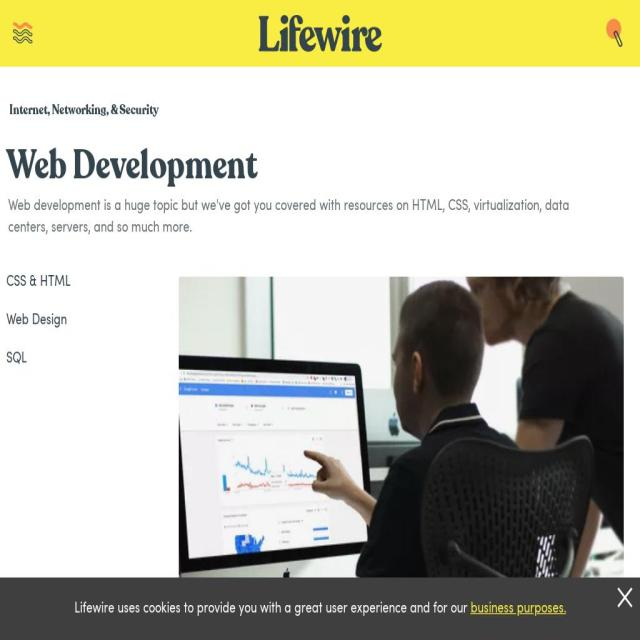button: (178, 276, 623, 640), (330, 466, 618, 500), (330, 140, 618, 173), (253, 14, 387, 64), (6, 302, 150, 341), (6, 340, 150, 379), (6, 264, 150, 302), (330, 231, 446, 270), (330, 344, 411, 383), (22, 192, 102, 231), (330, 307, 409, 345), (330, 596, 409, 634), (22, 230, 97, 268), (330, 558, 402, 596), (330, 269, 399, 308), (330, 382, 395, 420), (330, 193, 376, 232), (330, 520, 376, 558), (599, 13, 628, 54), (23, 267, 48, 306), (330, 633, 459, 640), (12, 21, 34, 46), (618, 588, 632, 608)
heading: (6, 142, 596, 190)
image: (178, 276, 623, 640), (253, 14, 387, 52), (602, 14, 628, 52), (12, 22, 34, 44)
link: (22, 149, 234, 180), (9, 101, 159, 120)
text: (8, 196, 596, 240), (73, 602, 470, 616), (22, 202, 102, 220), (22, 239, 97, 258), (470, 602, 566, 616), (6, 275, 71, 290), (6, 314, 67, 328), (23, 277, 48, 295), (6, 352, 27, 366)
